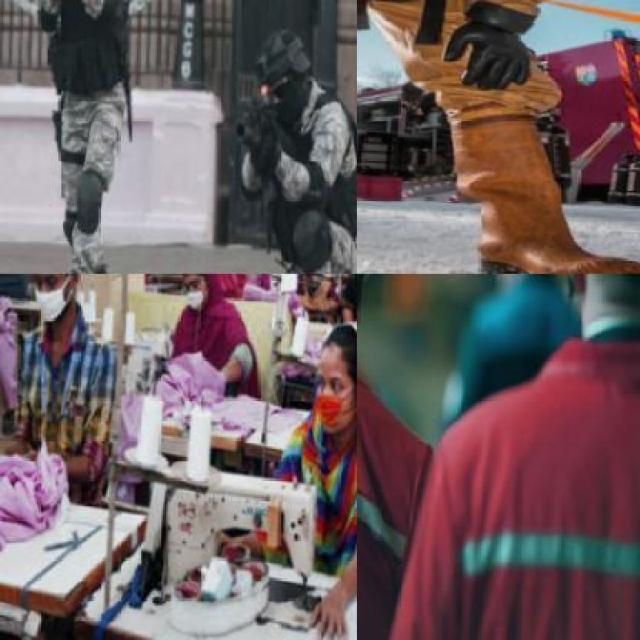hat: (254, 20, 319, 85)
